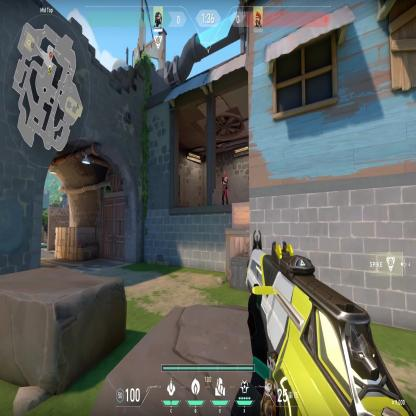enemy: (220, 170, 229, 206)
